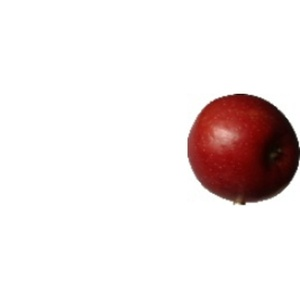maçã braeburn: (186, 92, 300, 199)
